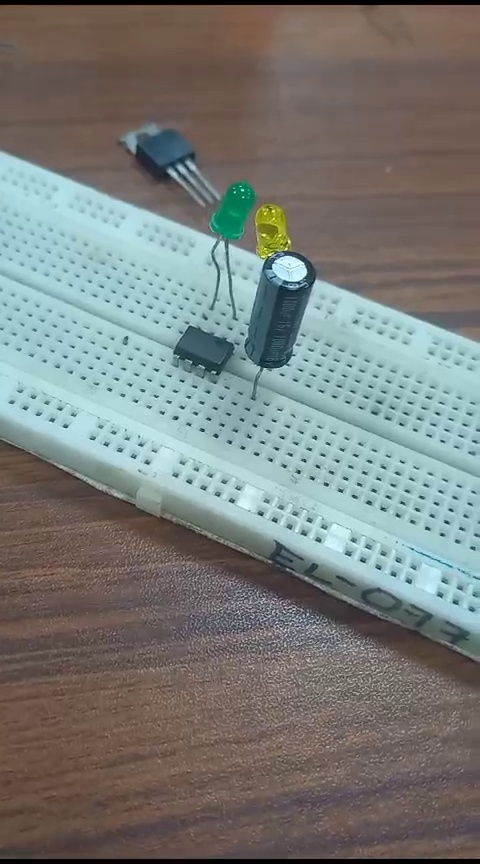IC: (158, 329, 234, 381)
LED: (210, 175, 246, 313), (255, 203, 294, 256)
capacitor: (256, 241, 318, 407)
